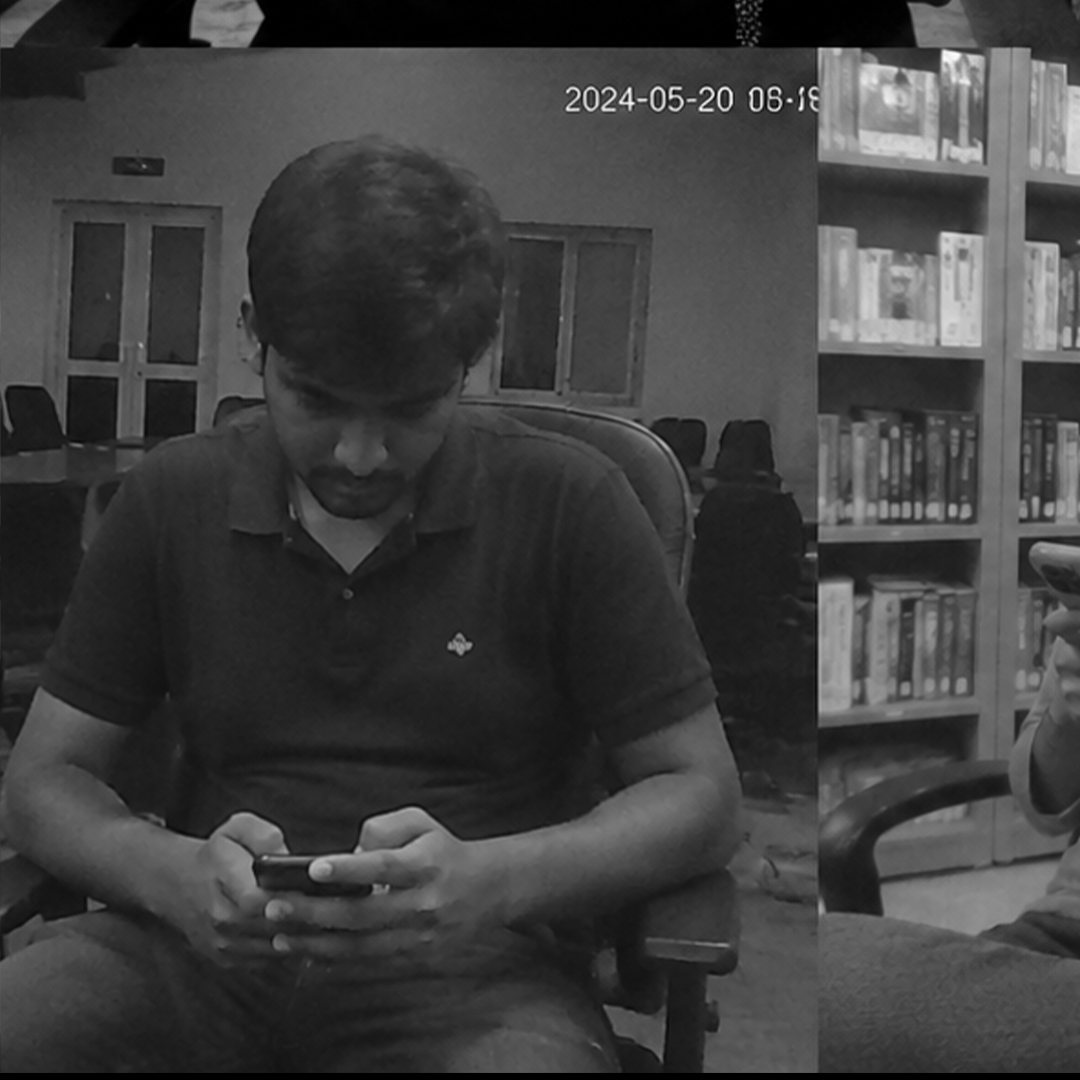distracted: (102, 96, 567, 1037)
